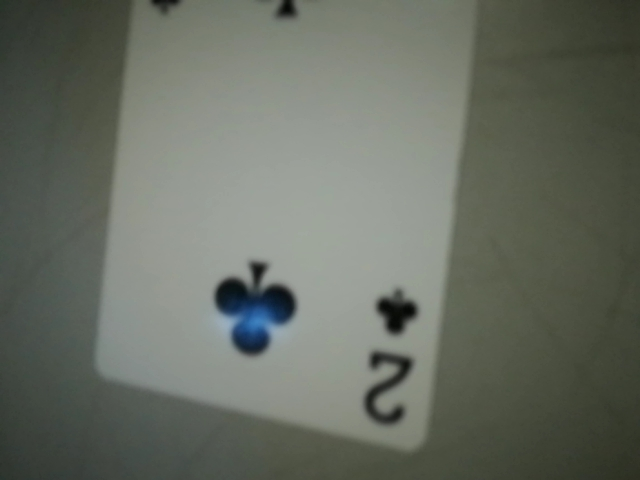mh 2: (346, 269, 435, 447)
